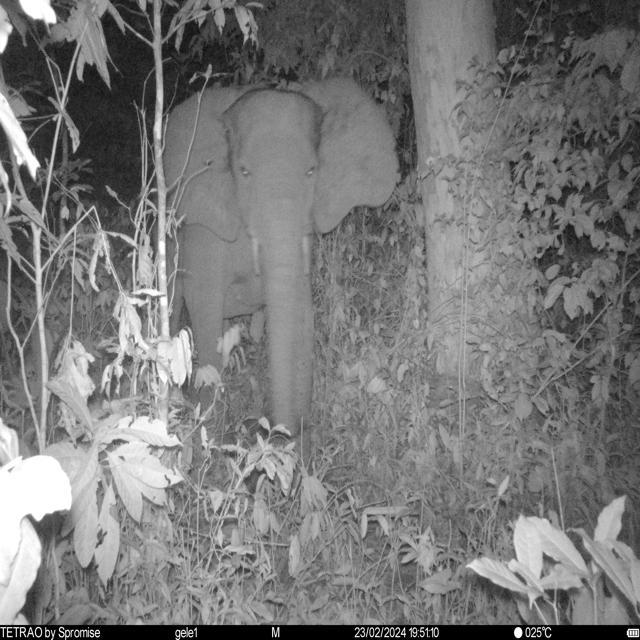ear: (291, 80, 403, 238), (154, 87, 248, 245)
elephant: (154, 80, 402, 443)
tusk: (300, 236, 312, 278), (250, 233, 260, 279)
